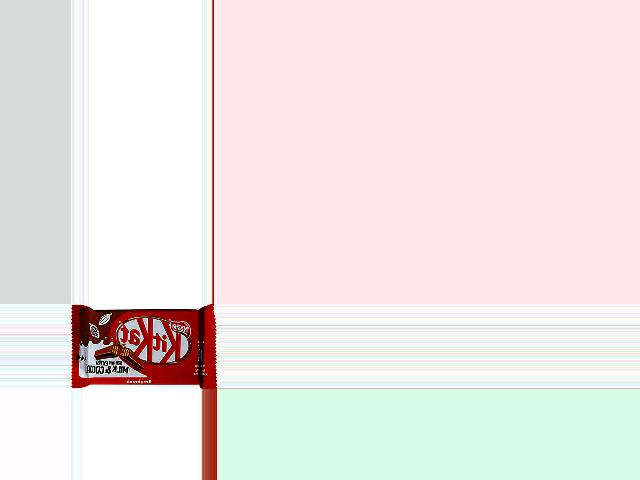chocolate: (70, 304, 215, 389)
